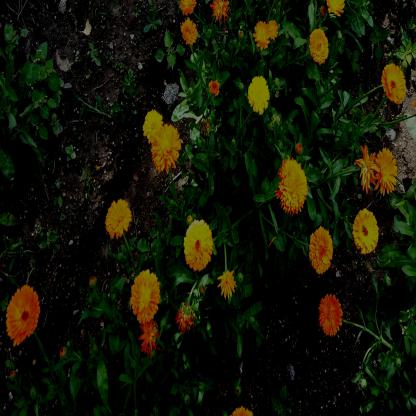marigold: (6, 285, 38, 339), (278, 160, 308, 216), (129, 270, 162, 318), (182, 220, 212, 270), (154, 125, 180, 172), (353, 209, 379, 256), (309, 227, 333, 276), (106, 199, 132, 237), (318, 295, 342, 336), (248, 74, 269, 115), (378, 151, 398, 194), (384, 66, 404, 103), (358, 150, 375, 188), (143, 109, 161, 141), (138, 322, 159, 349), (310, 32, 327, 63), (254, 21, 270, 49), (181, 19, 199, 43), (219, 272, 234, 298), (326, 0, 343, 16), (267, 18, 278, 38), (180, 0, 196, 13)
